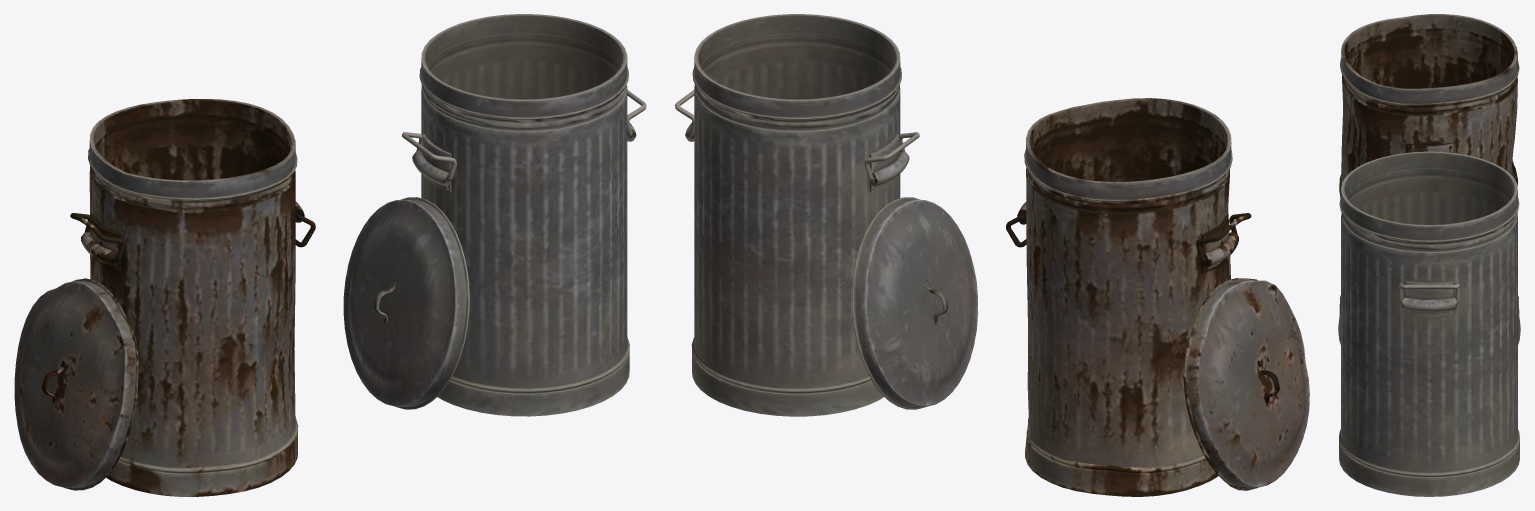
The model's file is metal_trash_can.glb.
3 views of the same model, side by side, from view 1: azimuth 30°, elevation 25°; view 2: azimuth 150°, elevation 25°; view 3: azimuth 270°, elevation 25° (orthographic). The views are drawn at different scales.
Parts seen in each view (by area): view 1: metal_trash_can, metal_trash_can_rust, metal_trash_can_lid, metal_trash_can_rust_lid; view 2: metal_trash_can, metal_trash_can_rust, metal_trash_can_lid, metal_trash_can_rust_lid; view 3: metal_trash_can, metal_trash_can_rust, metal_trash_can_handle_right.
Part boxes in pixels (bbox=[...]): metal_trash_can: bbox=[412, 14, 636, 416]; metal_trash_can_rust: bbox=[81, 99, 304, 496]; metal_trash_can_lid: bbox=[343, 197, 469, 409]; metal_trash_can_rust_lid: bbox=[14, 278, 138, 490]; metal_trash_can: bbox=[685, 14, 909, 416]; metal_trash_can_rust: bbox=[1017, 98, 1238, 496]; metal_trash_can_lid: bbox=[852, 197, 978, 409]; metal_trash_can_rust_lid: bbox=[1183, 278, 1309, 490]; metal_trash_can: bbox=[1338, 151, 1519, 496]; metal_trash_can_rust: bbox=[1339, 14, 1519, 316]; metal_trash_can_handle_right: bbox=[1399, 283, 1459, 303].
Bounding box in the file's own units: 1.78 × 0.9062 × 0.5563.
Materials: 2 (2 with a texture image).
